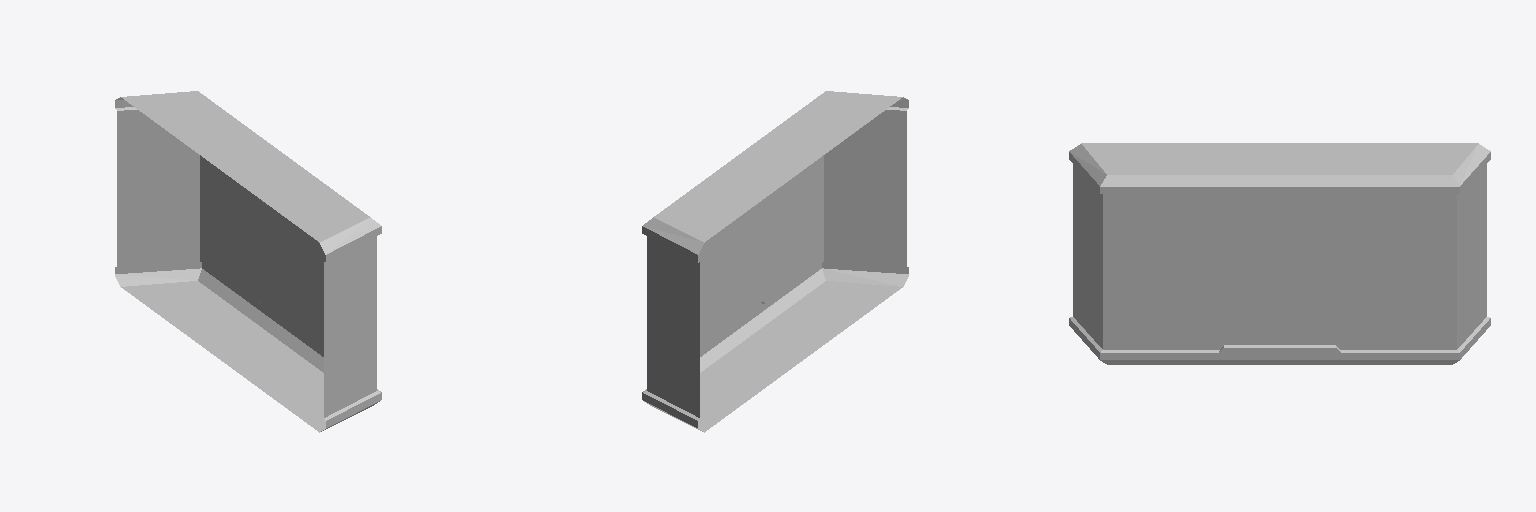
The model's file is Exit_Low.obj.
3 views of the same model, side by side, from view 1: azimuth 30°, elevation 25°; view 2: azimuth 150°, elevation 25°; view 3: azimuth 270°, elevation 25° (orthographic).
Visible parts, largest first — view 1: Low; view 2: Low; view 3: Low.
Part boxes in pixels (x1,y1,x2,y2): Low: (115, 91, 381, 432); Low: (642, 91, 908, 432); Low: (1069, 143, 1490, 364).
Bounding box in the file's own units: 0.7925 × 2 × 4.03.